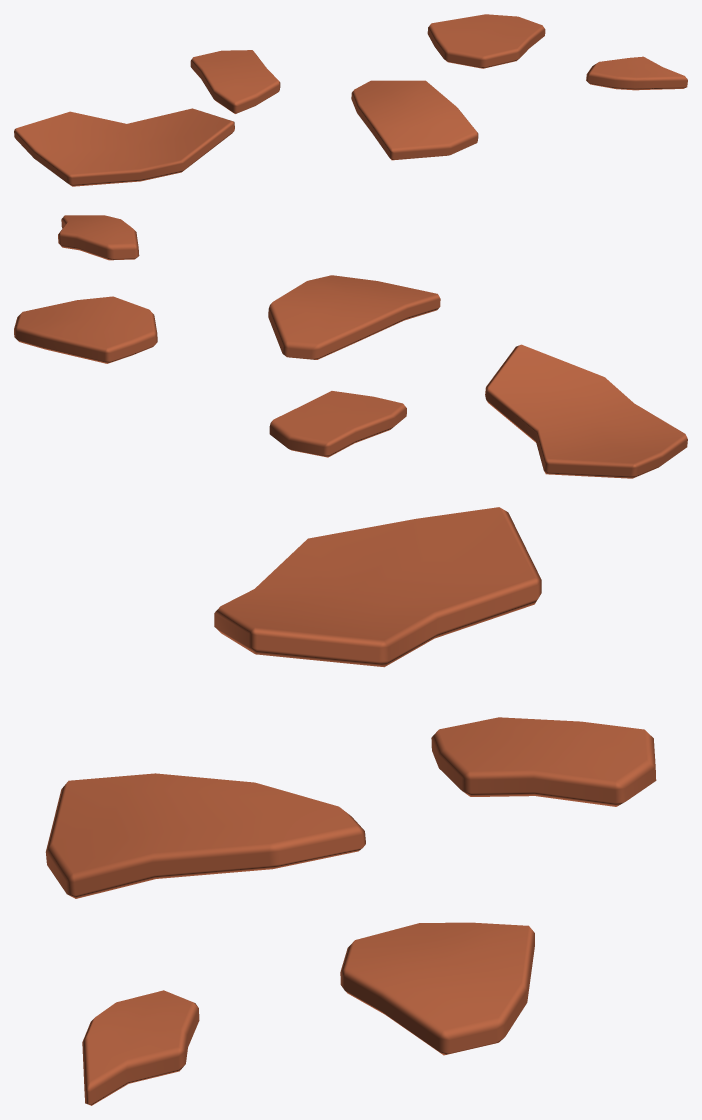
File: P_Potsherds.fbx
The picture shows the model from 3 angles, top to bottom: view 1: azimuth 30°, elevation 25°; view 2: azimuth 150°, elevation 25°; view 3: azimuth 270°, elevation 25°; orthographic projection. The views are drawn at different scales.
Parts seen in each view (by area): view 1: P_Potsherds; view 2: P_Potsherds; view 3: P_Potsherds.
Part boxes in pixels (x1,y1,x2,y2): P_Potsherds: (14, 14, 687, 186); P_Potsherds: (14, 215, 687, 478); P_Potsherds: (45, 507, 656, 1105).
Size of the model in its own units: 0.5525 by 0.037 by 0.2553.
